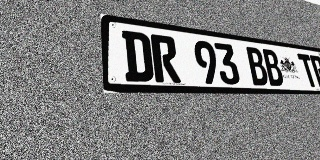3: (214, 42, 241, 85)
9: (193, 40, 221, 84)
B: (244, 46, 270, 86), (261, 49, 285, 86)
D: (122, 30, 154, 82)
R: (150, 34, 181, 83), (309, 55, 320, 87)
T: (297, 53, 319, 87)
